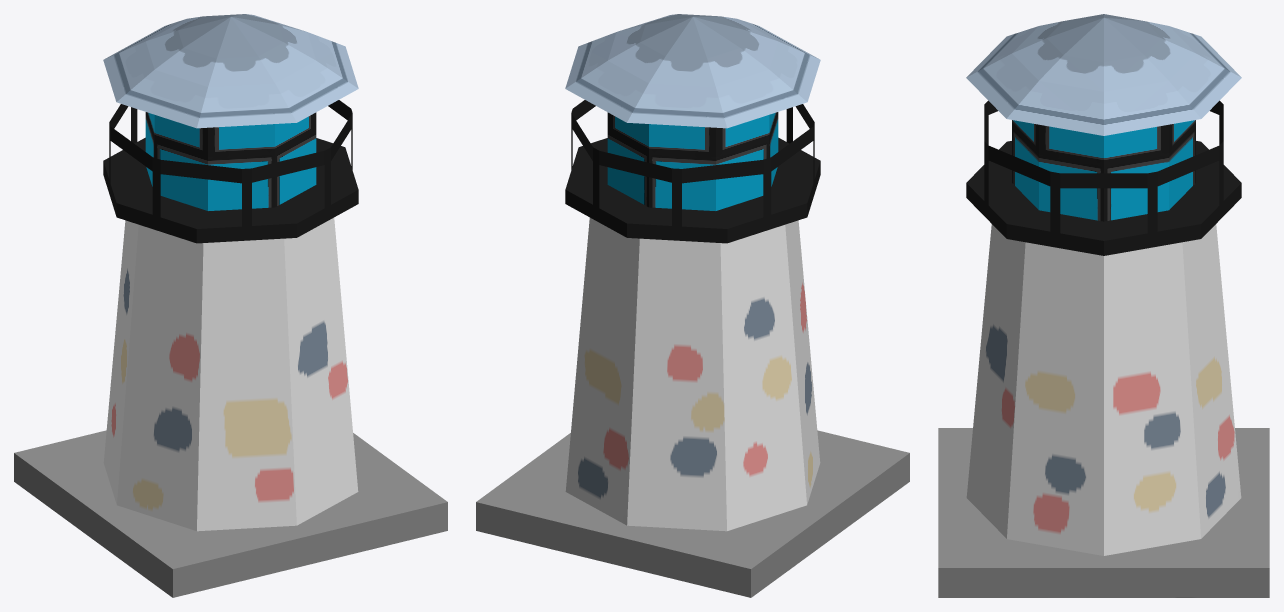
The model's file is Lighthouse.dae.
3 renders of one model, left to right at view 1: azimuth 30°, elevation 25°; view 2: azimuth 150°, elevation 25°; view 3: azimuth 270°, elevation 25°, orthographic. The views are drawn at different scales.
Visible parts, largest first — view 1: Plane; view 2: Plane; view 3: Plane.
Boxes of the visible parts, x1=… form: Plane: x1=14, y1=14, x2=447, y2=597; Plane: x1=476, y1=14, x2=909, y2=597; Plane: x1=938, y1=14, x2=1269, y2=597.
Bounding box in the file's own units: 2 × 2 × 3.4.
